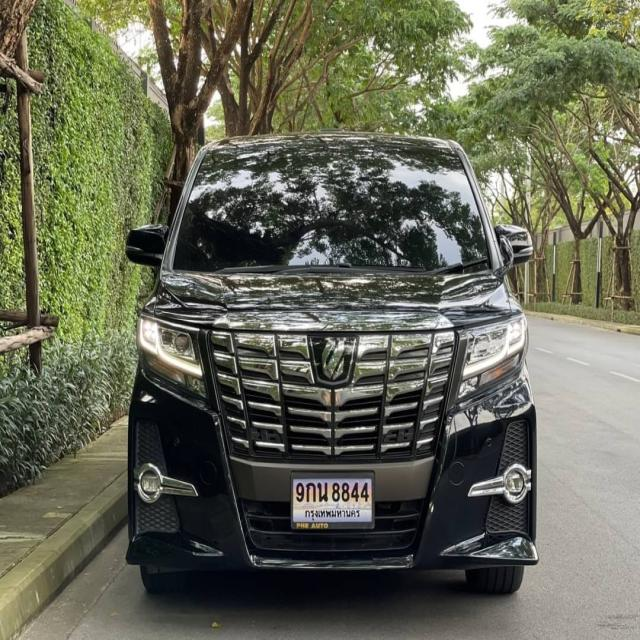license_plate: (290, 470, 375, 530)
